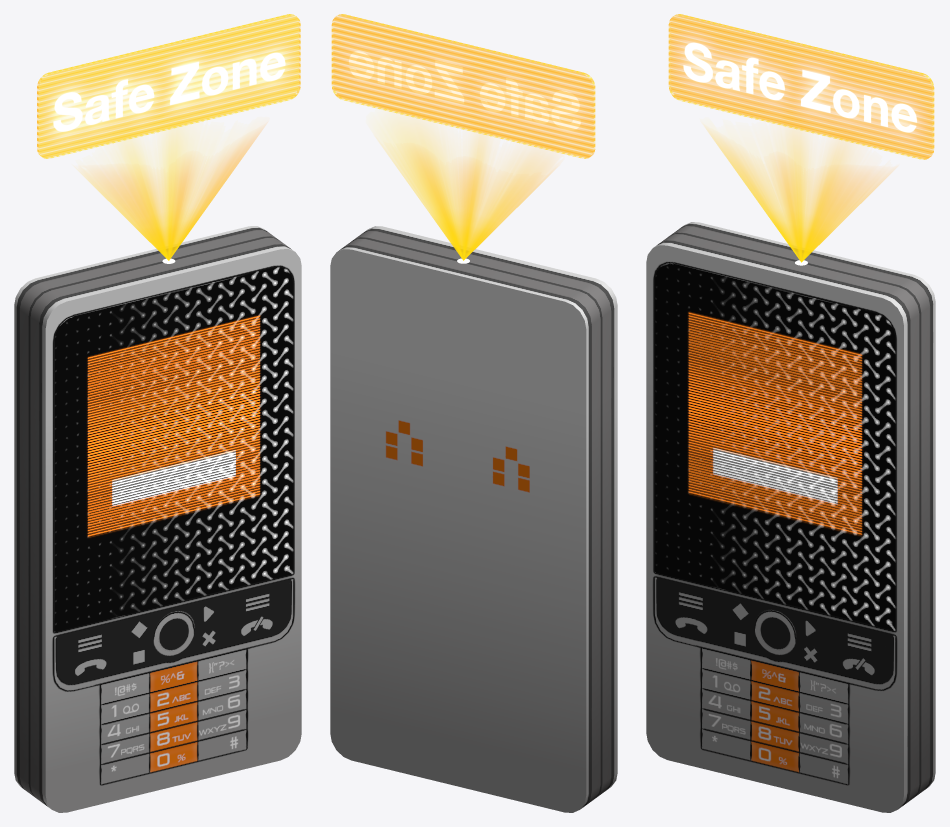
The model's file is orange_safe_zone_texto_phone.glb.
3 renders of one model, left to right at view 1: azimuth 30°, elevation 25°; view 2: azimuth 150°, elevation 25°; view 3: azimuth 330°, elevation 25°, orthographic.
Parts seen in each view (by area): view 1: _Smart__Phone, Sign, Light; view 2: _Smart__Phone, Sign, Light; view 3: _Smart__Phone, Sign, Light.
Part boxes in pixels (bbox=[...]): _Smart__Phone: bbox=[14, 226, 301, 812]; Sign: bbox=[37, 14, 300, 158]; Light: bbox=[83, 128, 262, 260]; _Smart__Phone: bbox=[330, 226, 617, 812]; Sign: bbox=[331, 14, 595, 158]; Light: bbox=[382, 124, 553, 260]; _Smart__Phone: bbox=[646, 222, 935, 812]; Sign: bbox=[668, 14, 934, 159]; Light: bbox=[707, 129, 890, 262].
Size of the model in its own units: 0.6961 by 1.8 by 0.1994.
2 materials, 2 textured.
